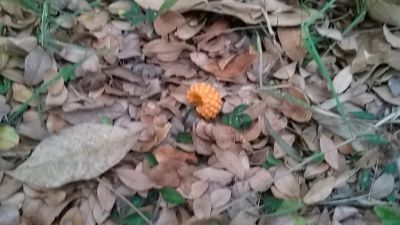eggs: (186, 83, 221, 118)
